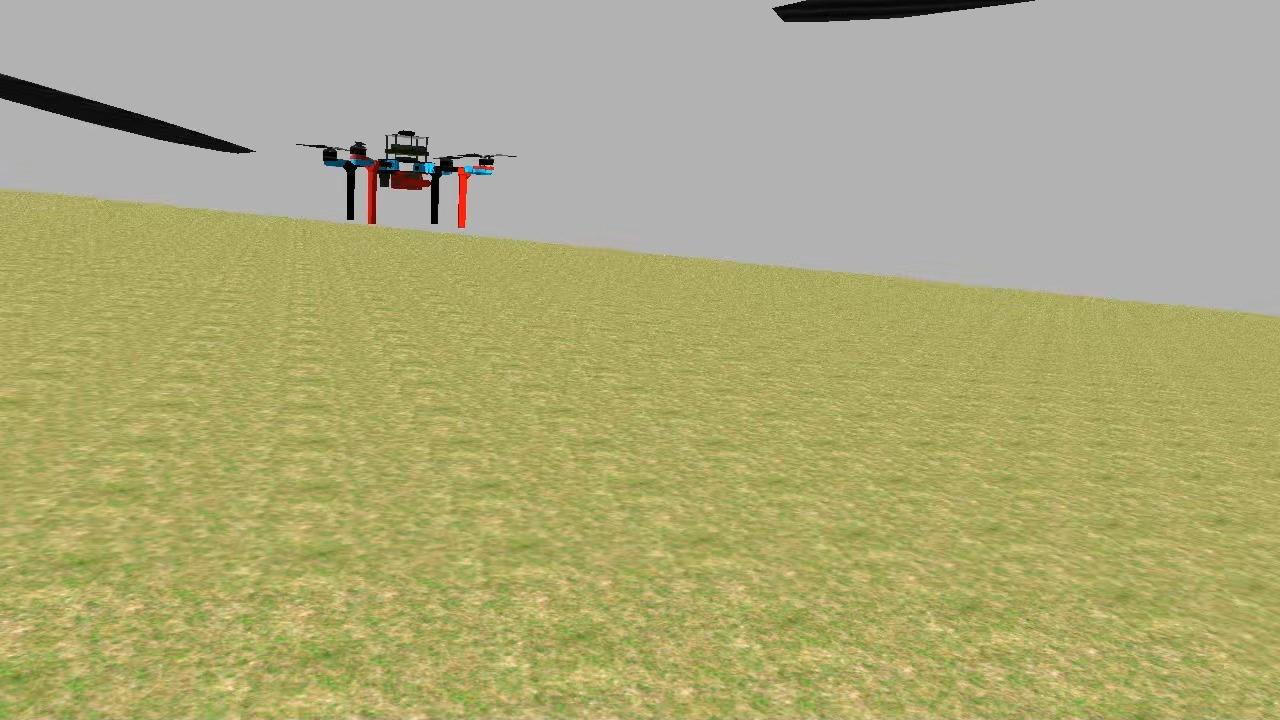UAV: (318, 122, 502, 230)
